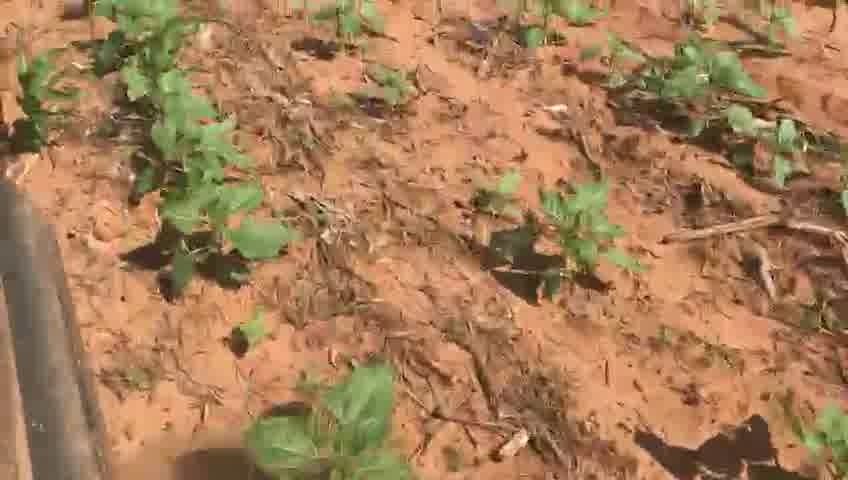sunflower: (234, 356, 410, 475), (485, 177, 645, 300), (171, 173, 298, 286), (651, 36, 760, 160), (98, 11, 222, 110), (132, 112, 242, 171), (516, 1, 608, 50), (301, 4, 396, 50), (801, 393, 837, 476), (364, 64, 412, 118)
